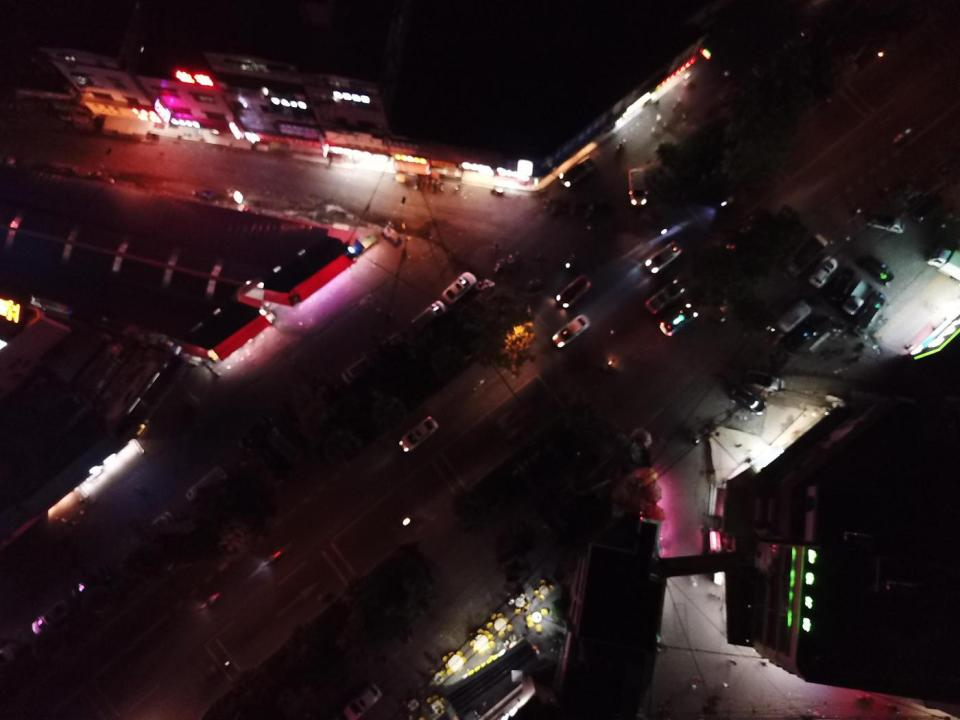car: (784, 235, 828, 279), (70, 564, 114, 602), (136, 509, 178, 548), (399, 415, 440, 454), (344, 681, 384, 720), (644, 278, 686, 315), (32, 599, 72, 635), (645, 240, 685, 276), (659, 303, 699, 338), (551, 314, 591, 348), (555, 275, 592, 311), (558, 158, 594, 192), (339, 355, 378, 386), (730, 386, 768, 417), (743, 369, 786, 396), (826, 268, 854, 308), (856, 291, 884, 330), (808, 255, 838, 290), (628, 167, 648, 206)
truck: (840, 279, 874, 316), (865, 210, 906, 232)
van: (185, 465, 231, 506), (769, 300, 811, 344), (440, 270, 479, 303), (410, 299, 446, 333), (372, 332, 412, 362)
